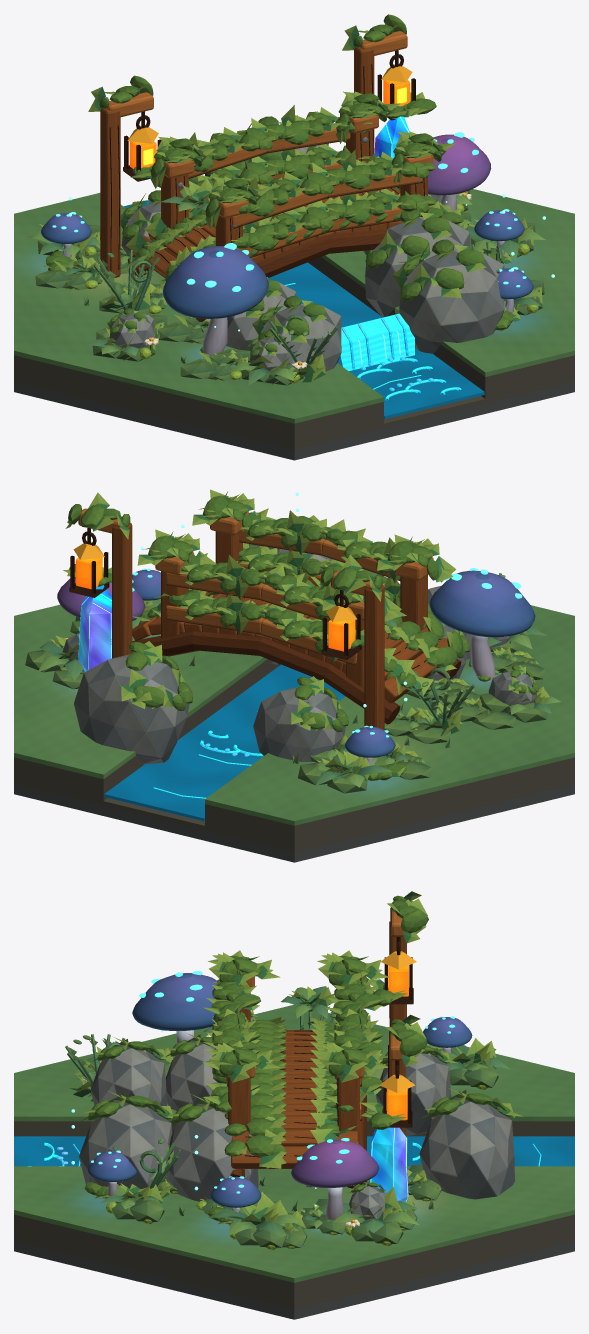
File: hex_woodland_bridge.glb
The picture shows the model from 3 angles, top to bottom: view 1: azimuth 30°, elevation 25°; view 2: azimuth 150°, elevation 25°; view 3: azimuth 270°, elevation 25°; orthographic projection.
Parts seen in each view (by area): view 1: Meadow river bank.002, Meadow river bank.003, Cut river bank.002, Continuous river water.001, Angular mossy forest boulder.002, River hex stone foundation.001, Broad faceted mushroom cap.001, Cut river bank.003, River hex bed.001, Woodland lantern upright.001, Angular mossy forest boulder.006, Opaque stylized waterfall.001 (+22 smaller); view 2: Meadow river bank.002, Meadow river bank.003, Continuous river water.001, Cut river bank.002, Angular mossy forest boulder.004, River hex stone foundation.001, Broad faceted mushroom cap.001, Arched wooden stringer.001, Angular mossy forest boulder.003, Cut river bank.003, River hex bed.001, Woodland lantern upright.001 (+22 smaller); view 3: Meadow river bank.003, Cut river bank.003, Meadow river bank.002, Angular mossy forest boulder.004, River hex stone foundation.001, Angular mossy forest boulder.002, Angular mossy forest boulder.006, Continuous river water.001, Broad faceted mushroom cap.001, Angular mossy forest boulder.001, Broad faceted mushroom cap.003, River hex bed.001 (+16 smaller).
Part boxes in pixels (<box>): Meadow river bank.002: <box>14,193,383,423</box>; Meadow river bank.003: <box>207,156,574,376</box>; Cut river bank.002: <box>14,355,383,445</box>; Continuous river water.001: <box>124,200,484,418</box>; Angular mossy forest boulder.002: <box>399,249,504,353</box>; River hex stone foundation.001: <box>14,382,574,460</box>; Broad faceted mushroom cap.001: <box>163,246,268,318</box>; Cut river bank.003: <box>205,173,574,398</box>; River hex bed.001: <box>14,377,574,449</box>; Woodland lantern upright.001: <box>100,108,120,279</box>; Angular mossy forest boulder.006: <box>365,216,469,317</box>; Opaque stylized waterfall.001: <box>340,313,414,370</box>; Meadow river bank.002: <box>205,605,574,825</box>; Meadow river bank.003: <box>14,569,381,778</box>; Continuous river water.001: <box>104,664,345,821</box>; Cut river bank.002: <box>205,757,574,847</box>; Angular mossy forest boulder.004: <box>74,654,189,764</box>; River hex stone foundation.001: <box>14,784,574,862</box>; Broad faceted mushroom cap.001: <box>429,570,535,637</box>; Arched wooden stringer.001: <box>132,631,400,724</box>; Angular mossy forest boulder.003: <box>253,686,345,761</box>; Cut river bank.003: <box>14,575,383,800</box>; River hex bed.001: <box>14,779,574,852</box>; Woodland lantern upright.001: <box>364,584,384,730</box>; Meadow river bank.003: <box>14,1166,574,1282</box>; Cut river bank.003: <box>14,1214,574,1304</box>; Meadow river bank.002: <box>14,1004,574,1121</box>; Angular mossy forest boulder.004: <box>419,1097,514,1199</box>; River hex stone foundation.001: <box>14,1241,574,1319</box>; Angular mossy forest boulder.002: <box>79,1100,172,1188</box>; Angular mossy forest boulder.006: <box>168,1104,258,1201</box>; Continuous river water.001: <box>14,1136,574,1166</box>; Broad faceted mushroom cap.001: <box>132,973,216,1030</box>; Angular mossy forest boulder.001: <box>90,1044,166,1105</box>; Broad faceted mushroom cap.003: <box>291,1139,379,1187</box>; River hex bed.001: <box>14,1236,574,1309</box>.
Bounding box in the file's own units: 5.1 × 2 × 4.42.
60 materials, 46 textured.
